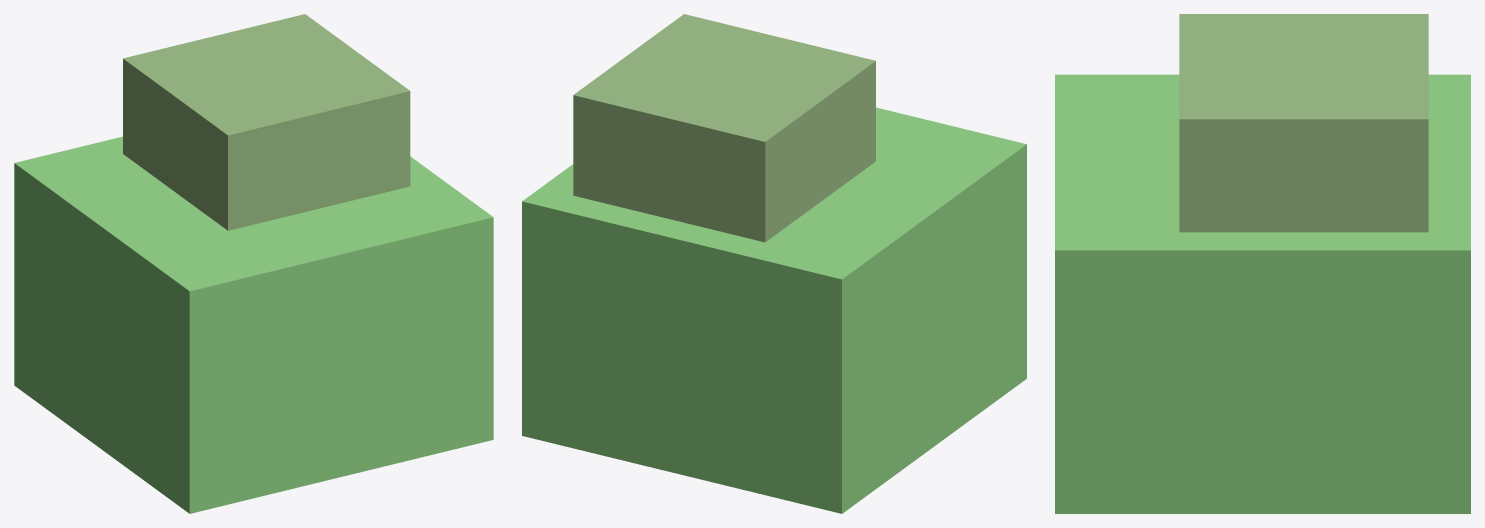
File: Prop_Dress_AMF_Bush_V26.glb
3 renders of one model, left to right at view 1: azimuth 30°, elevation 25°; view 2: azimuth 150°, elevation 25°; view 3: azimuth 270°, elevation 25°, orthographic. The views are drawn at different scales.
Parts seen in each view (by area): view 1: Prop_Dress_AMF_Bush_V26; view 2: Prop_Dress_AMF_Bush_V26; view 3: Prop_Dress_AMF_Bush_V26.
Boxes of the visible parts, x1,y1,x2,y2 form: Prop_Dress_AMF_Bush_V26: [14, 14, 493, 513]; Prop_Dress_AMF_Bush_V26: [522, 14, 1026, 513]; Prop_Dress_AMF_Bush_V26: [1055, 14, 1470, 513].
Size of the model in its own units: 1.01 by 1.01 by 1.01.
